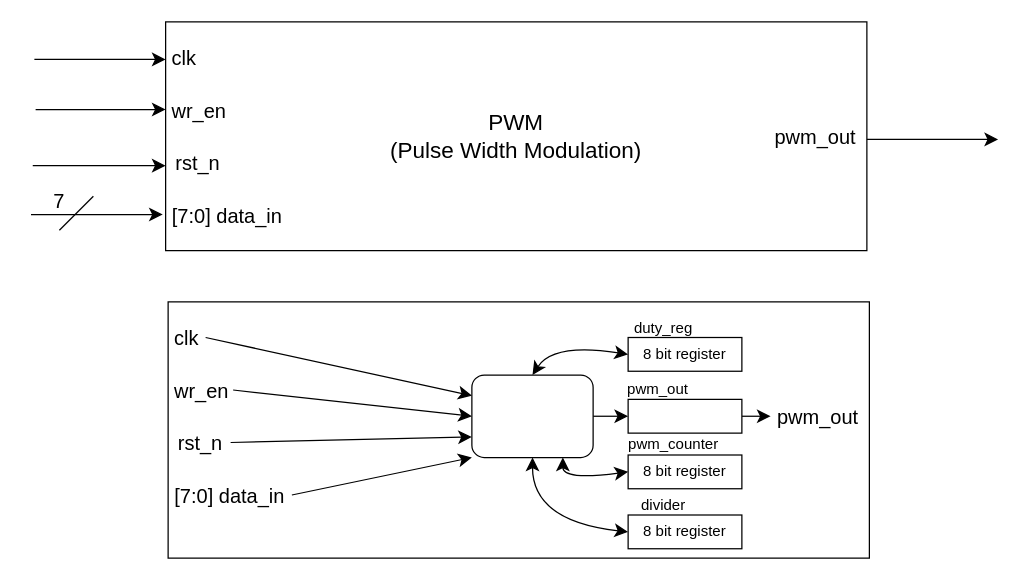
Image size: 1019x580. Some labels were removed from this diagram. Here are the shapes that lost their labels. From the top down, the centre of each, then its label:
pixel 532 416: Controller
pixel 684 415: 1 bit register
